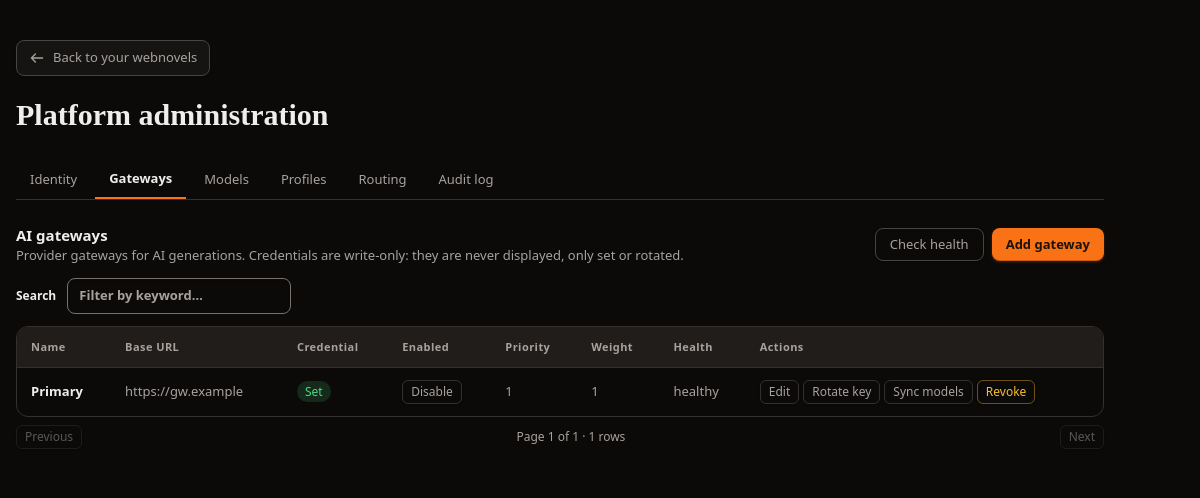
Test: admin gateway action toasts › a failed health-check request shows the red failure toast
Click the button "Check health". click: (929, 245)
box: [875,228,984,261]
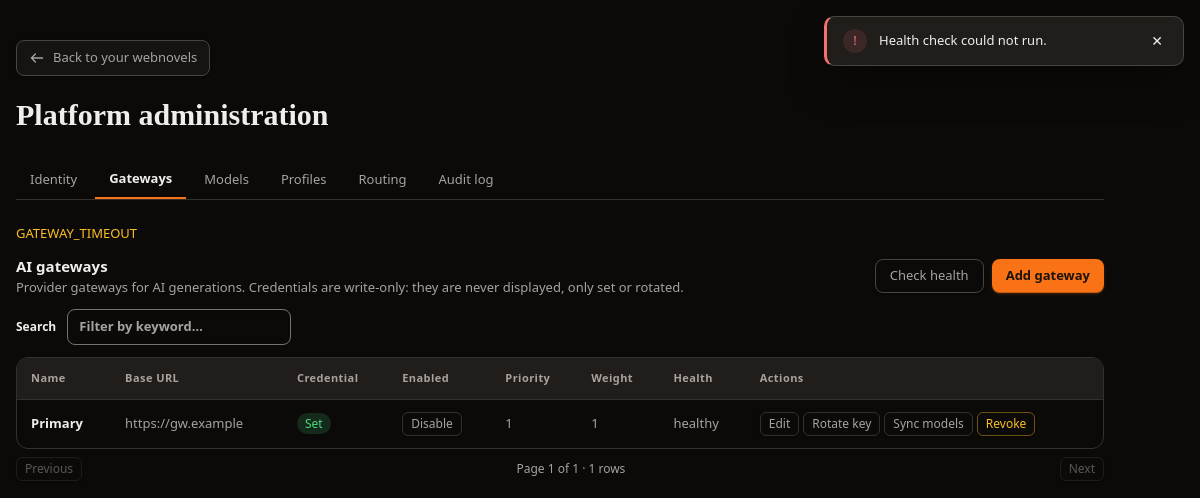
Now the message with test id "toast-error" shows "Health check could not run.", box [879,31,1047,49]
